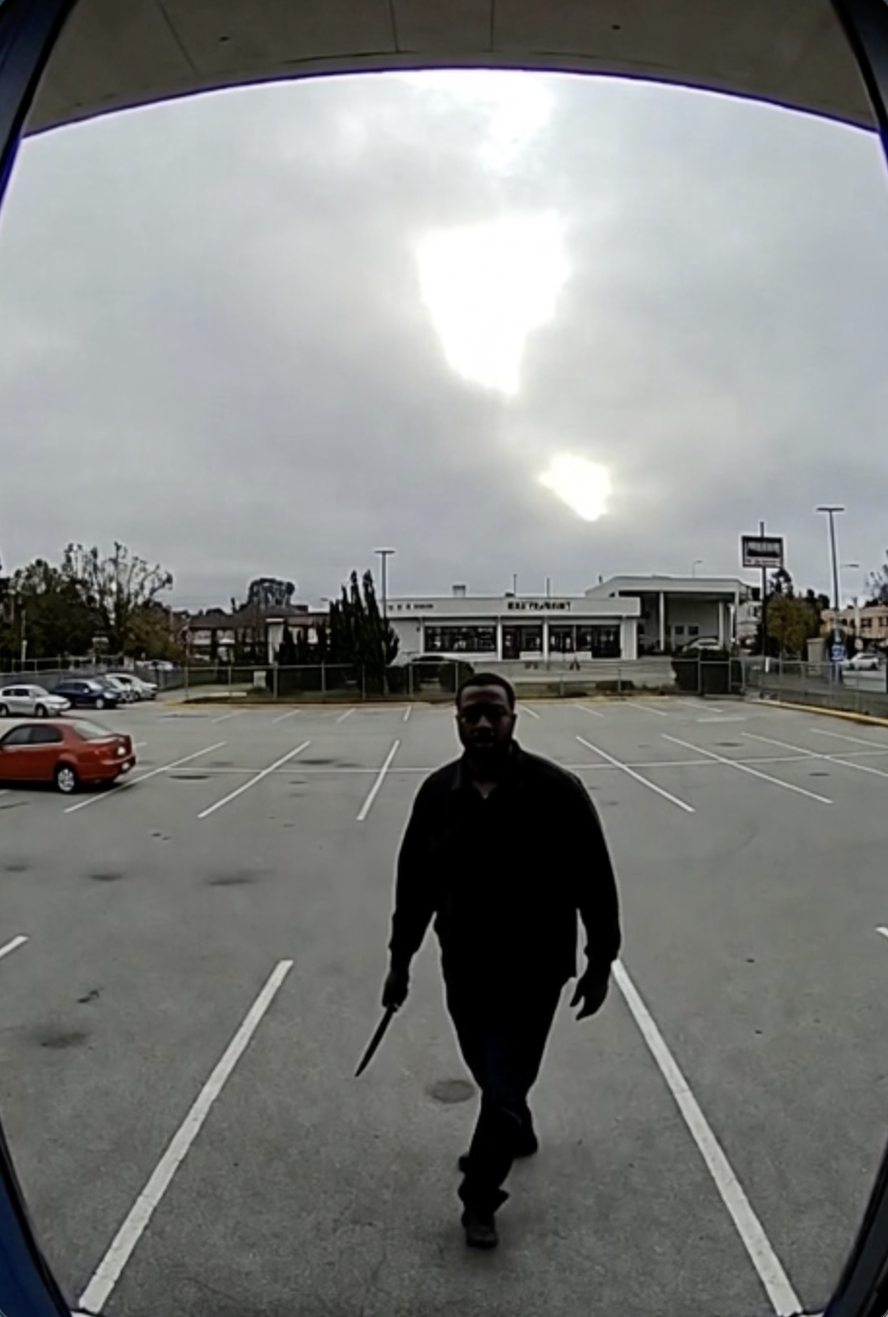Heavy Gun: (370, 667, 632, 1260)
Knife: (351, 962, 413, 1089)
